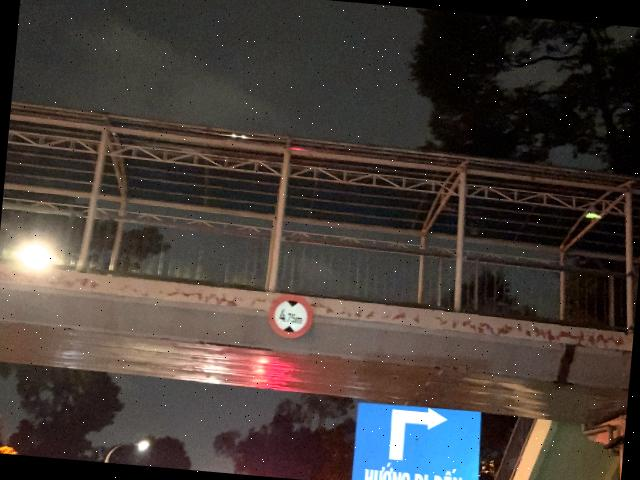han-che-chieu-cao: (265, 291, 313, 339)
